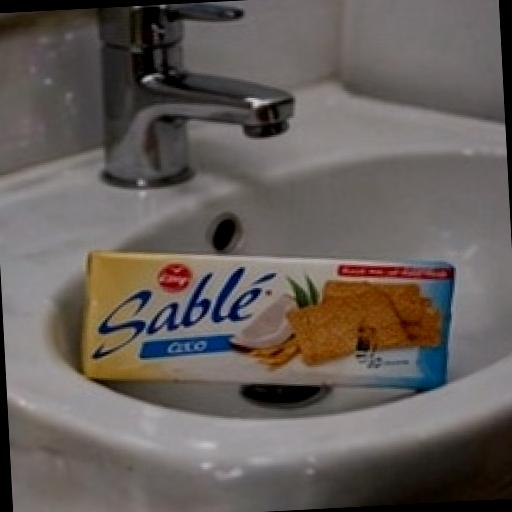sable: (24, 166, 512, 467)
